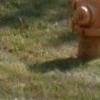Hydrant: (57, 2, 100, 63)
